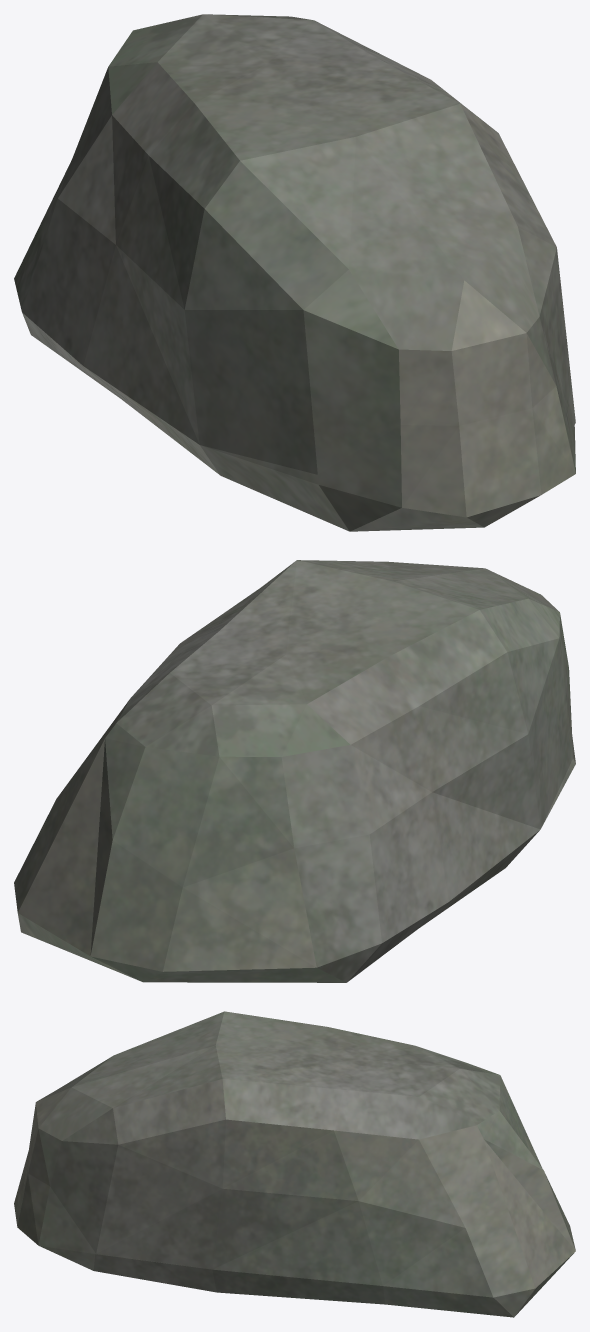
The model's file is stone1.fbx.
3 views of the same model, one above another, from view 1: azimuth 30°, elevation 25°; view 2: azimuth 150°, elevation 25°; view 3: azimuth 270°, elevation 25° (orthographic). The views are drawn at different scales.
Visible parts, largest first — view 1: stone; view 2: stone; view 3: stone.
Boxes of the visible parts, <box> form: stone: <box>14,14,575,531</box>; stone: <box>14,560,575,982</box>; stone: <box>14,1011,575,1317</box>.
Size of the model in its own units: 266 by 193 by 476.
